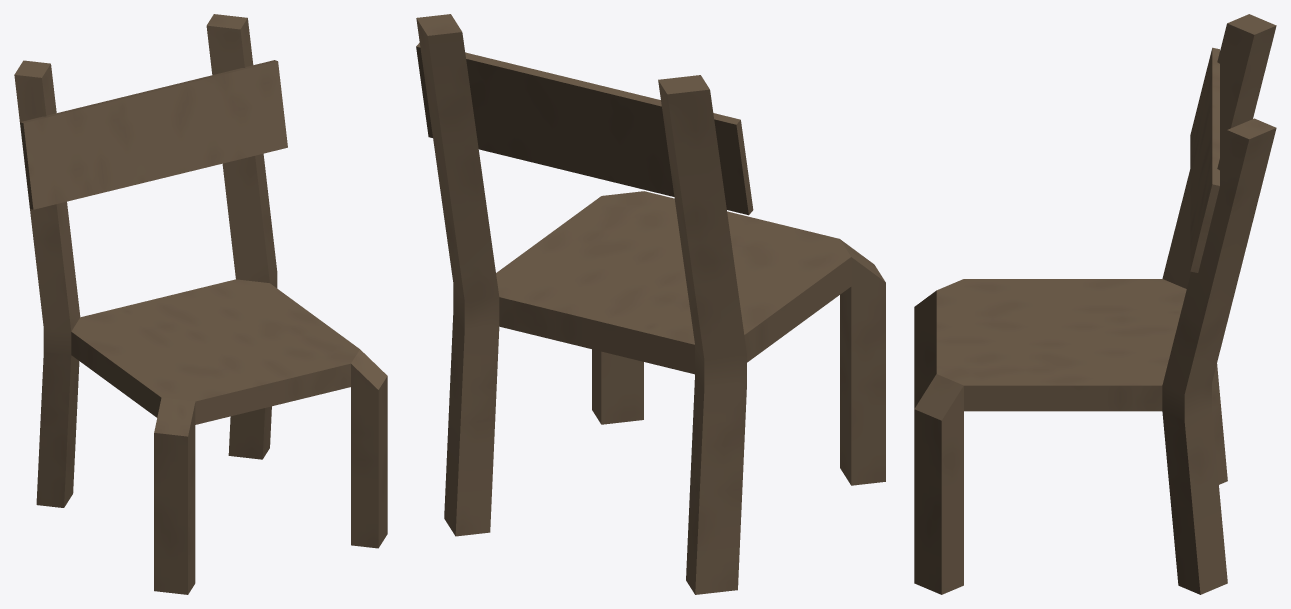
File: Chair.fbx
The picture shows the model from 3 angles, left to right: view 1: azimuth 30°, elevation 25°; view 2: azimuth 150°, elevation 25°; view 3: azimuth 270°, elevation 25°; orthographic projection. The views are drawn at different scales.
Visible parts, largest first — view 1: Cube.147; view 2: Cube.147; view 3: Cube.147.
Boxes of the visible parts, x1=… form: Cube.147: x1=14, y1=14, x2=387, y2=594; Cube.147: x1=416, y1=14, x2=885, y2=594; Cube.147: x1=914, y1=14, x2=1276, y2=594.
Size of the model in its own units: 91.11 by 142 by 102.
